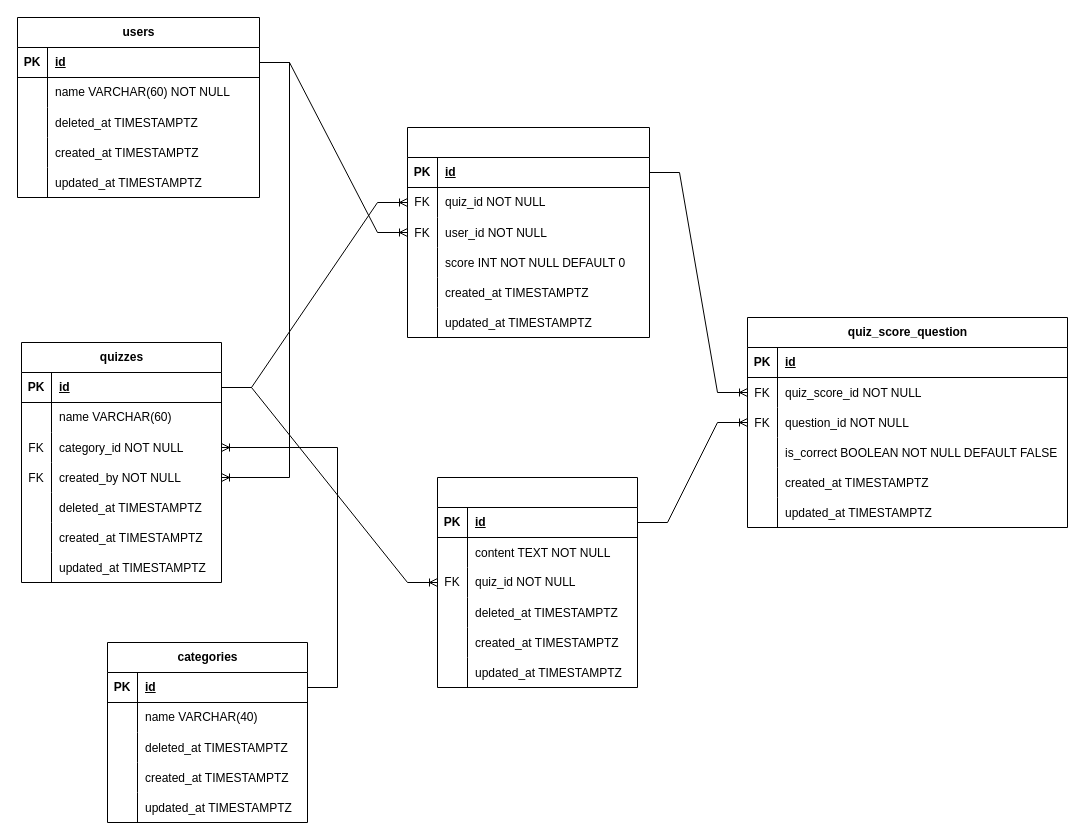
Image size: 1085x840. Some labels were removed from this diagram. Here are the shapes that lost their labels. From the top down, the box of each, then its label:
(406, 126, 650, 338): quiz_score
(436, 476, 638, 688): questions
